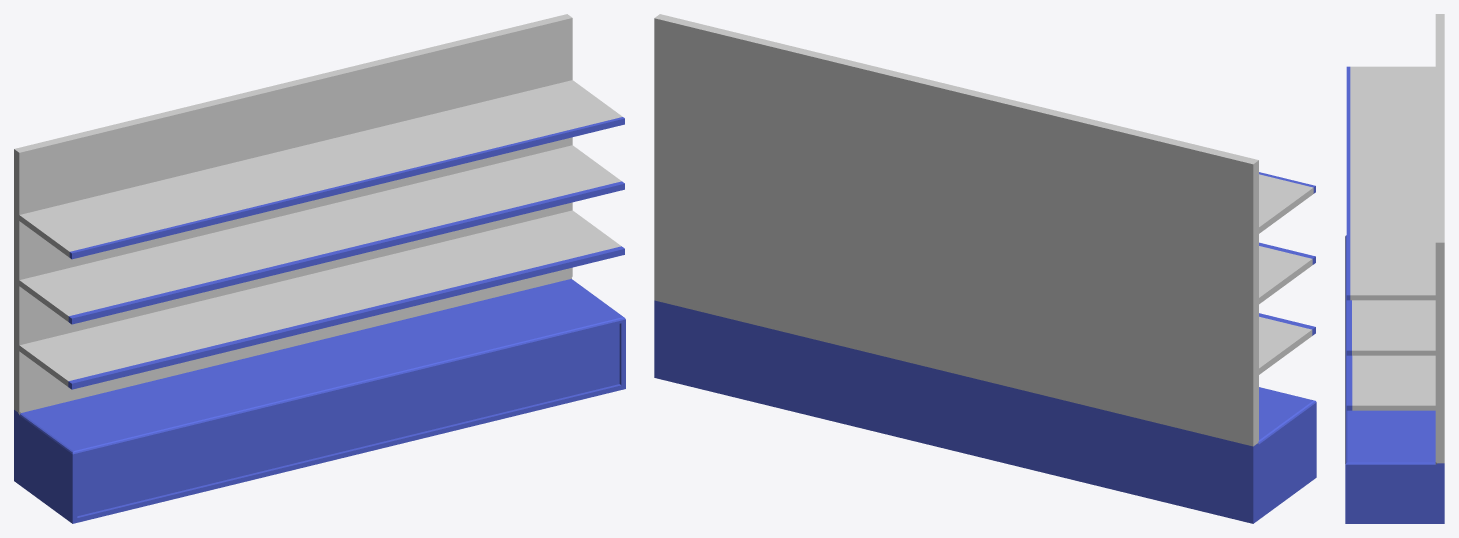
The model's file is Polka.fbx.
3 views of the same model, side by side, from view 1: azimuth 30°, elevation 25°; view 2: azimuth 150°, elevation 25°; view 3: azimuth 270°, elevation 25° (orthographic). The views are drawn at different scales.
Parts seen in each view (by area): view 1: Cube.182; view 2: Cube.182; view 3: Cube.182.
Part boxes in pixels (box(x1,y1,x2,y2)): Cube.182: box(14, 14, 625, 523); Cube.182: box(654, 14, 1316, 523); Cube.182: box(1345, 14, 1444, 523).
Bounding box in the file's own units: 380 × 218 × 69.69.
